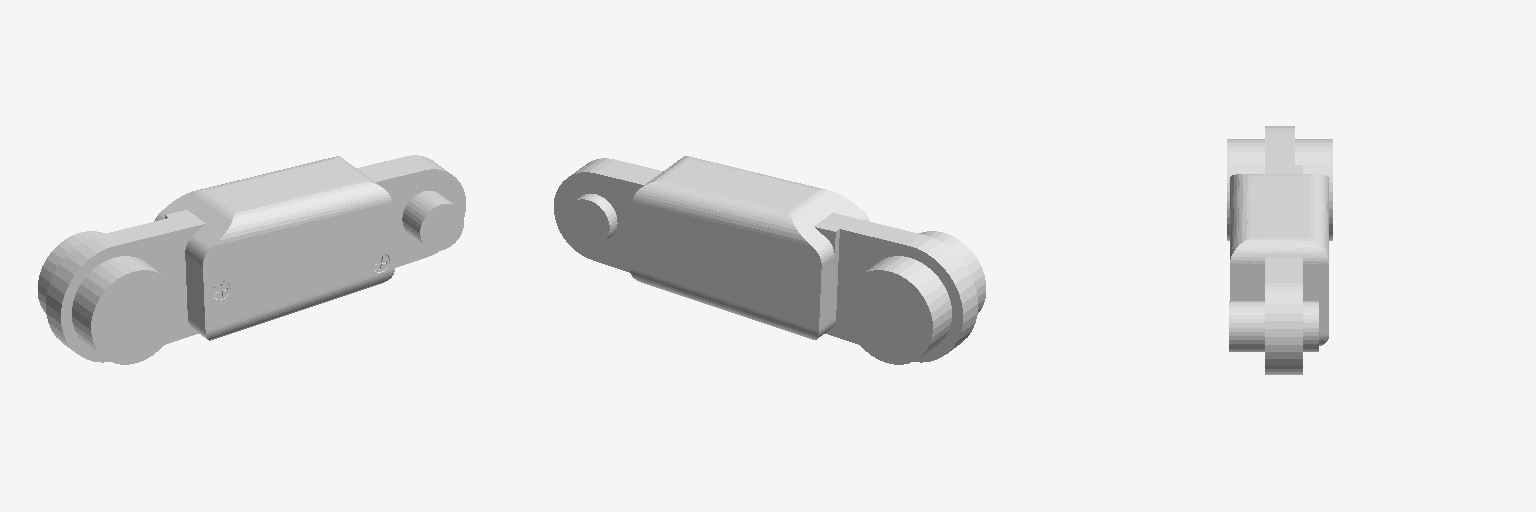
3 renders of one model, left to right at view 1: azimuth 30°, elevation 25°; view 2: azimuth 150°, elevation 25°; view 3: azimuth 270°, elevation 25°, orthographic.
Parts seen in each view (by area): view 1: Bhand_Finger_Med_Link_Fine; view 2: Bhand_Finger_Med_Link_Fine; view 3: Bhand_Finger_Med_Link_Fine.
Part boxes in pixels (x1,y1,x2,y2): Bhand_Finger_Med_Link_Fine: (38,155,465,364); Bhand_Finger_Med_Link_Fine: (554,156,985,364); Bhand_Finger_Med_Link_Fine: (1227,126,1332,374).
Bounding box in the file's own units: 0.0919 × 0.0275 × 0.021.
Materials: 1 (1 with a texture image).